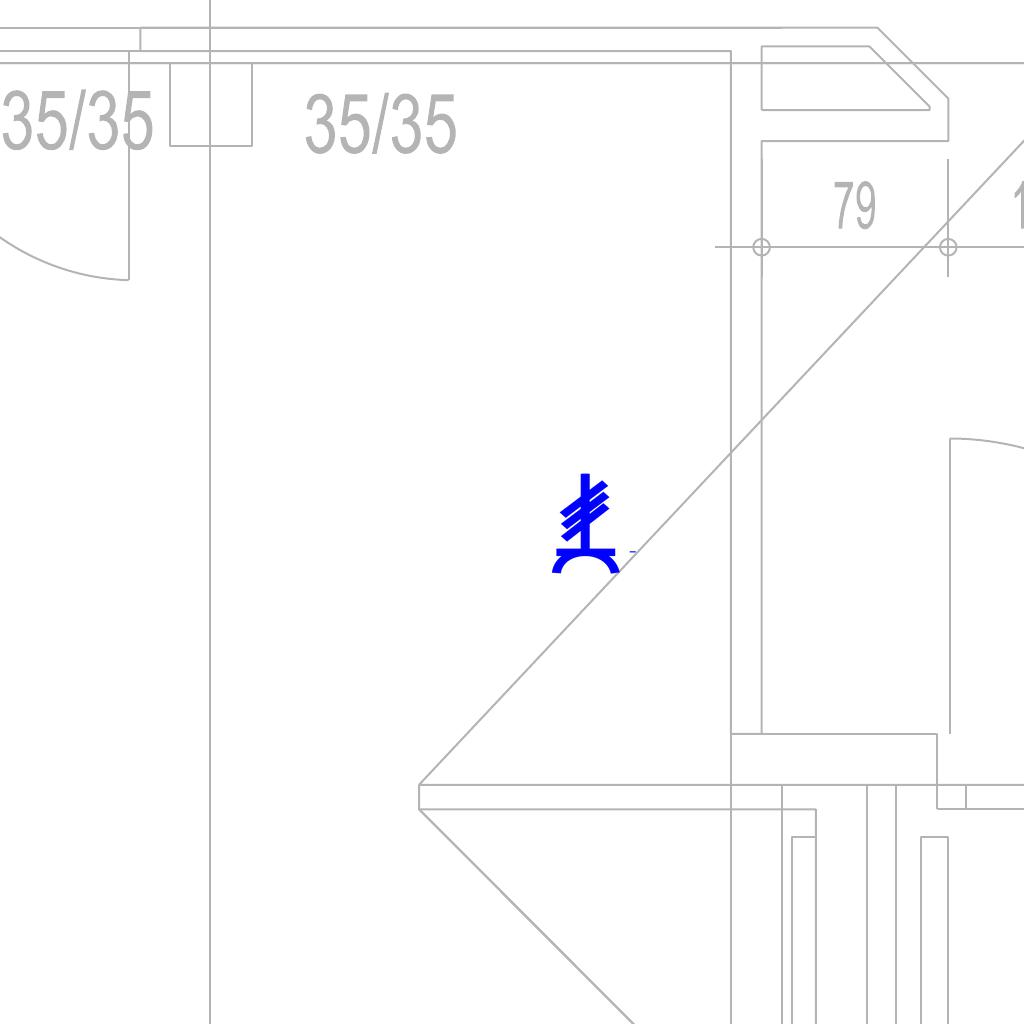CEE_Drehstrom_Steckdose_16_32_A: (549, 472, 639, 576)
